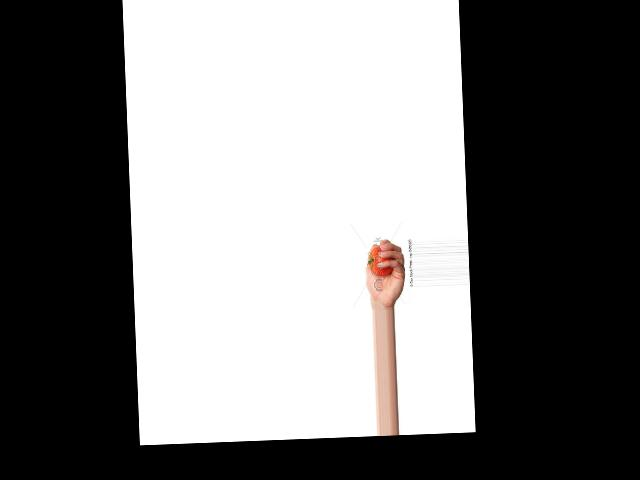tomato: (368, 244, 395, 275)
